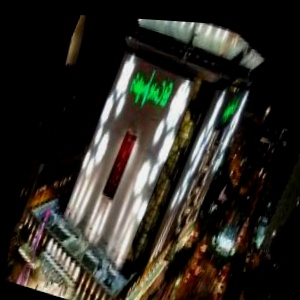corte_ingles: (136, 51, 300, 121), (127, 53, 231, 105)
